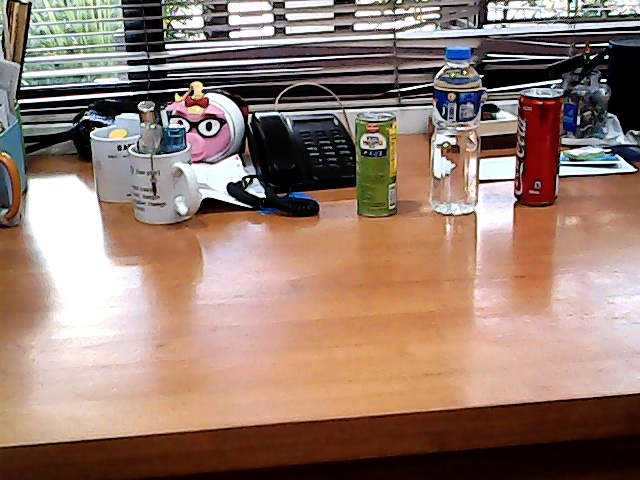Cola: (500, 81, 582, 216)
Pine Juice: (347, 108, 404, 223)
Summit Water: (416, 38, 496, 223)
